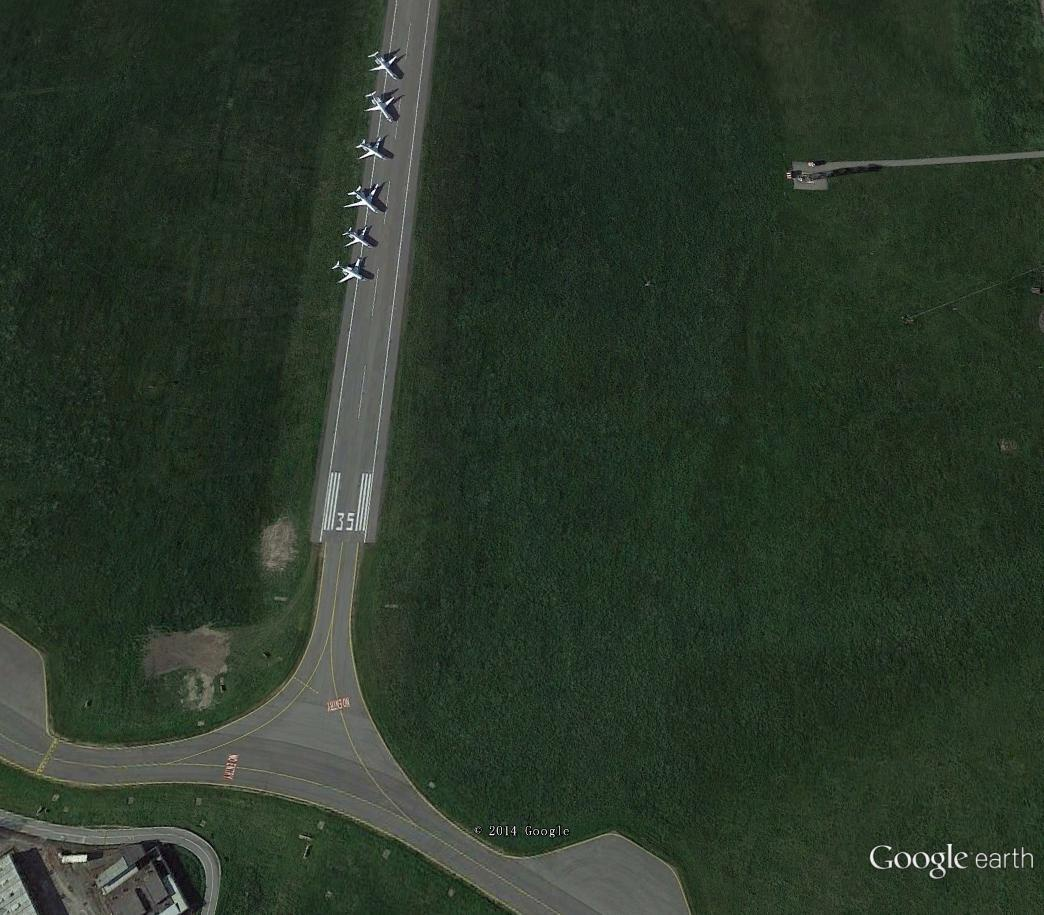aircraft: (361, 42, 406, 87), (336, 178, 387, 216), (361, 87, 402, 129), (349, 132, 397, 165), (330, 255, 372, 288), (337, 219, 379, 252)
